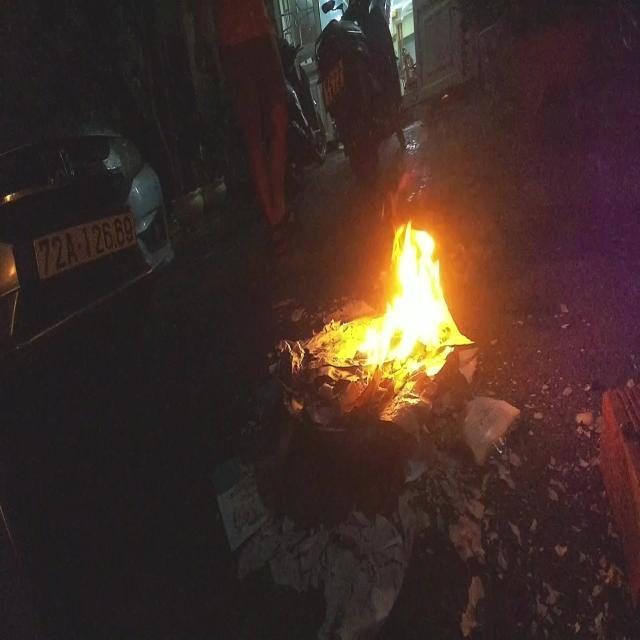Fire: (306, 191, 476, 392)
